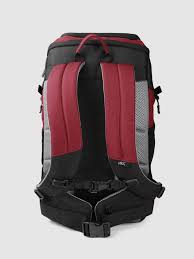backpack: (34, 32, 165, 237)
